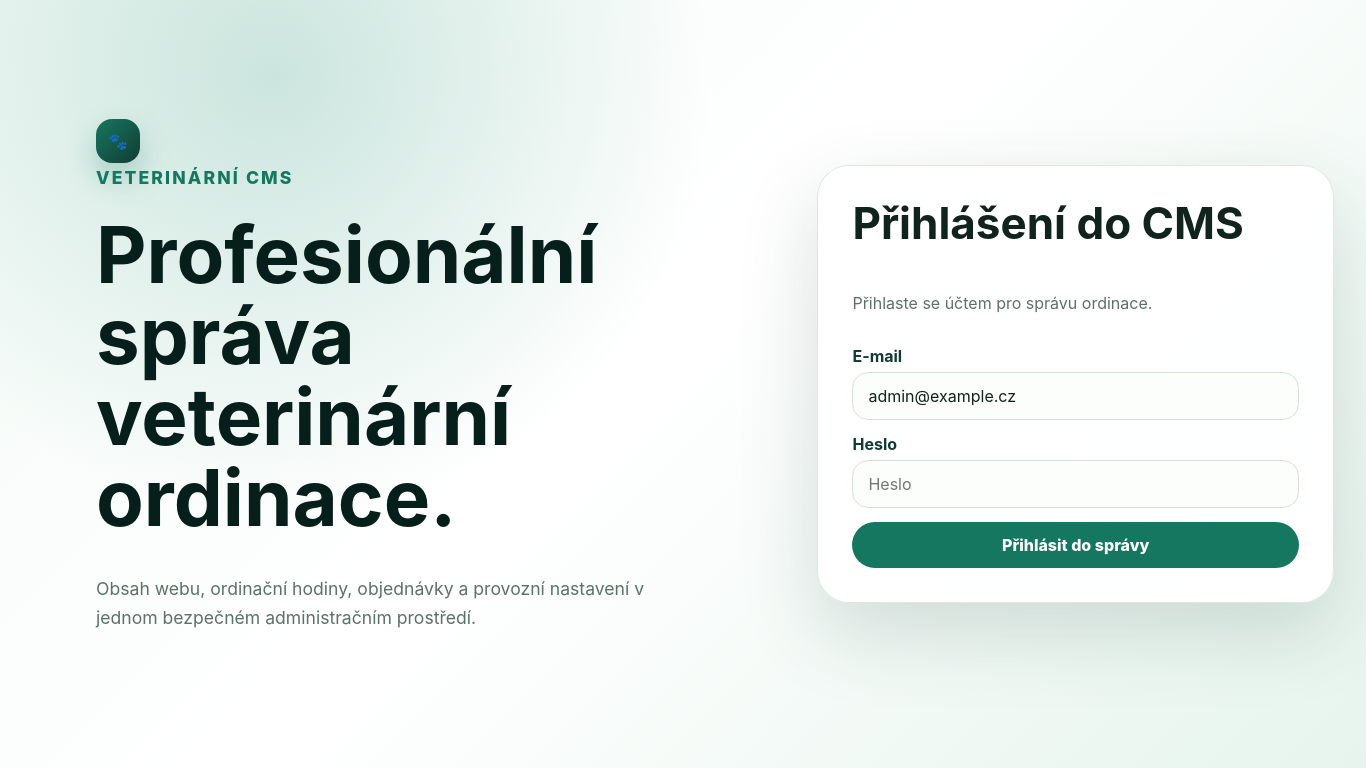
explains rejected credentials and clears the password without exposing an HTTP error
In the password field labelled "Heslo": (1076,484) [852,460,1299,508], type "incorrect-test-password"
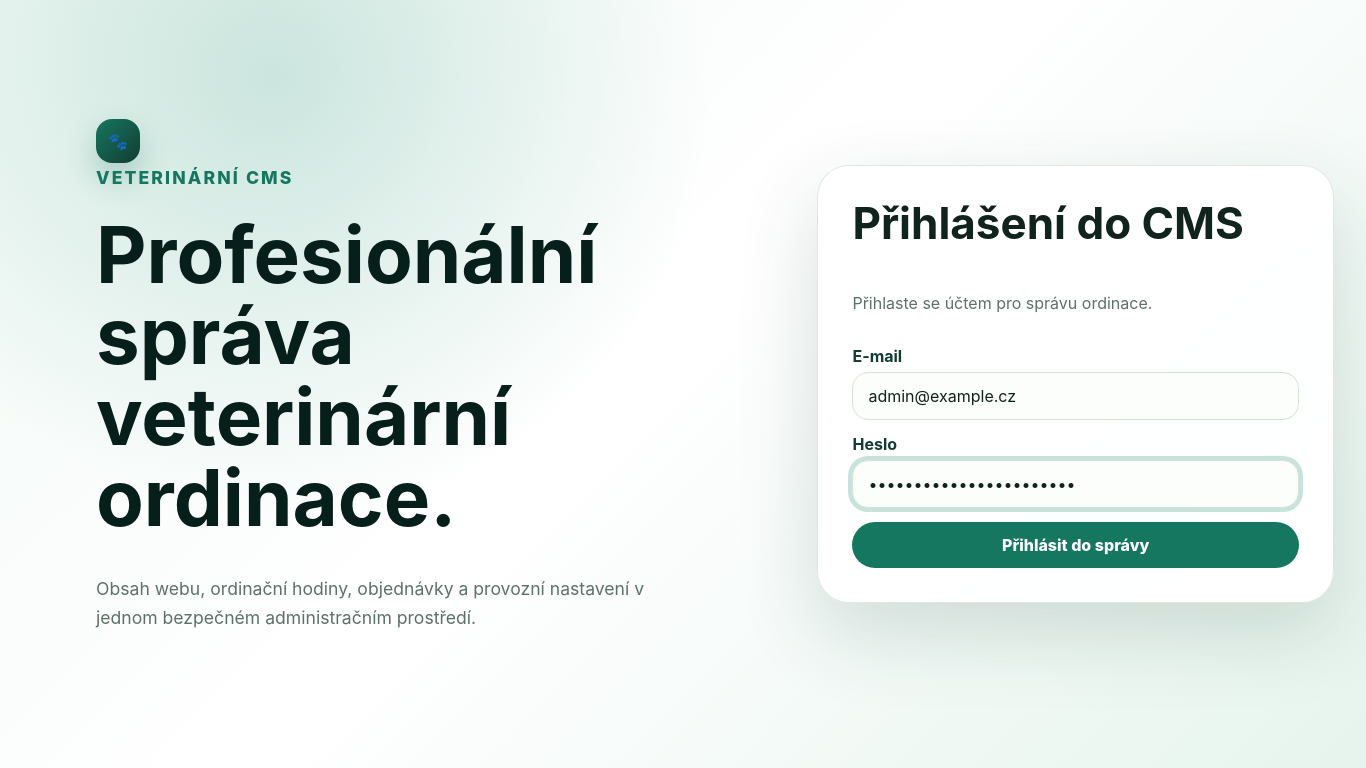
Click the button "Přihlásit do správy": (1076,545) [852,522,1299,568]
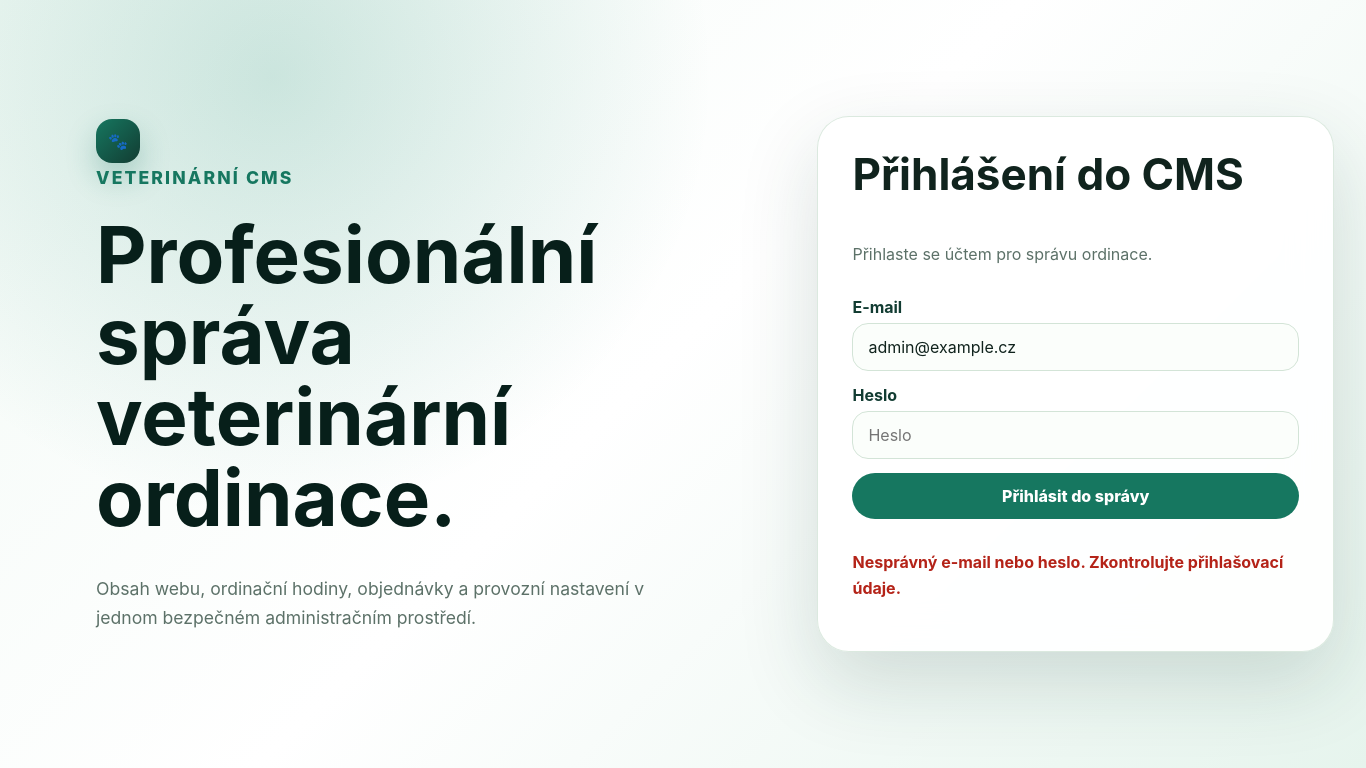
Expected: the text "Nesprávný e-mail nebo heslo. Zkontrolujte přihlašovací údaje." is shown, [852,549,1299,601]
Expected: the password field labelled "Heslo" is empty, [852,411,1299,459]
